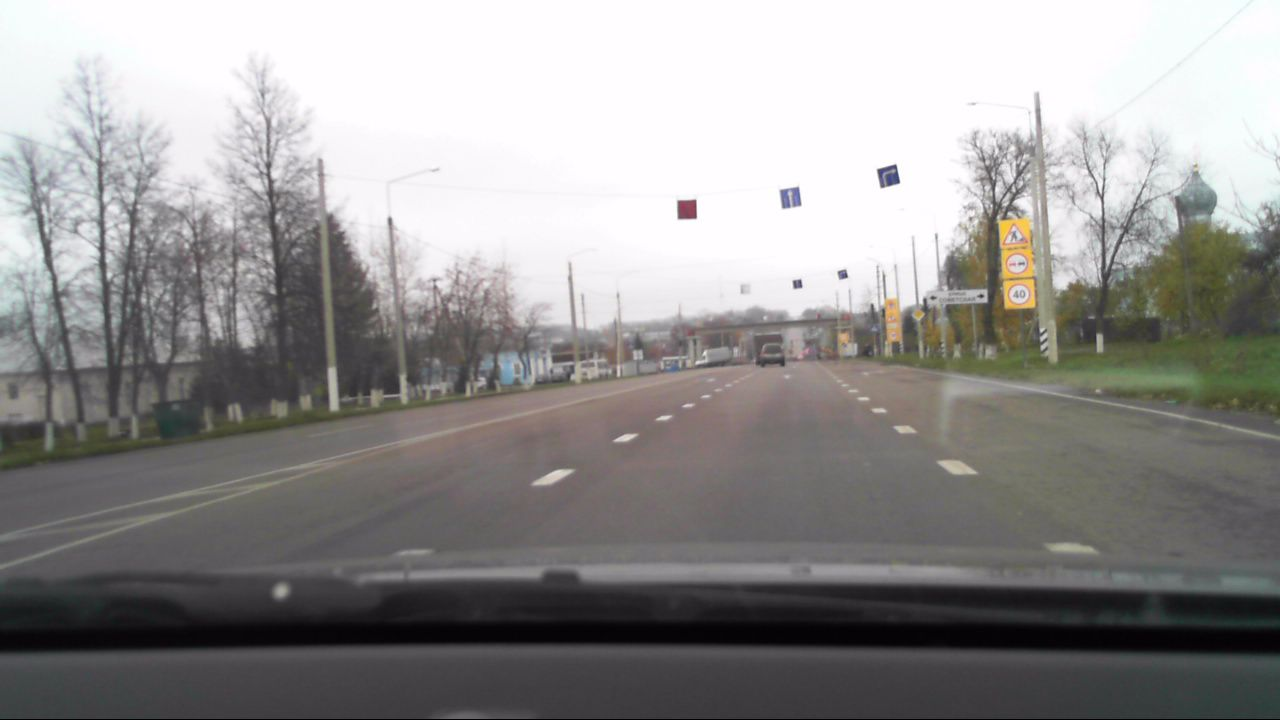speed_warning_40: (1004, 282, 1035, 310)
